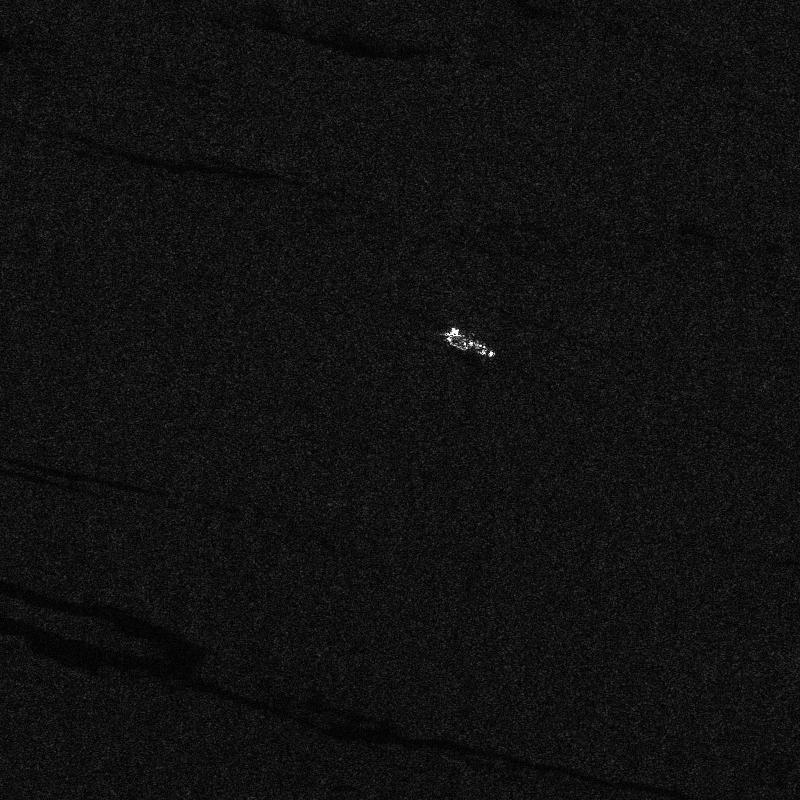ship: (443, 327, 495, 358)
